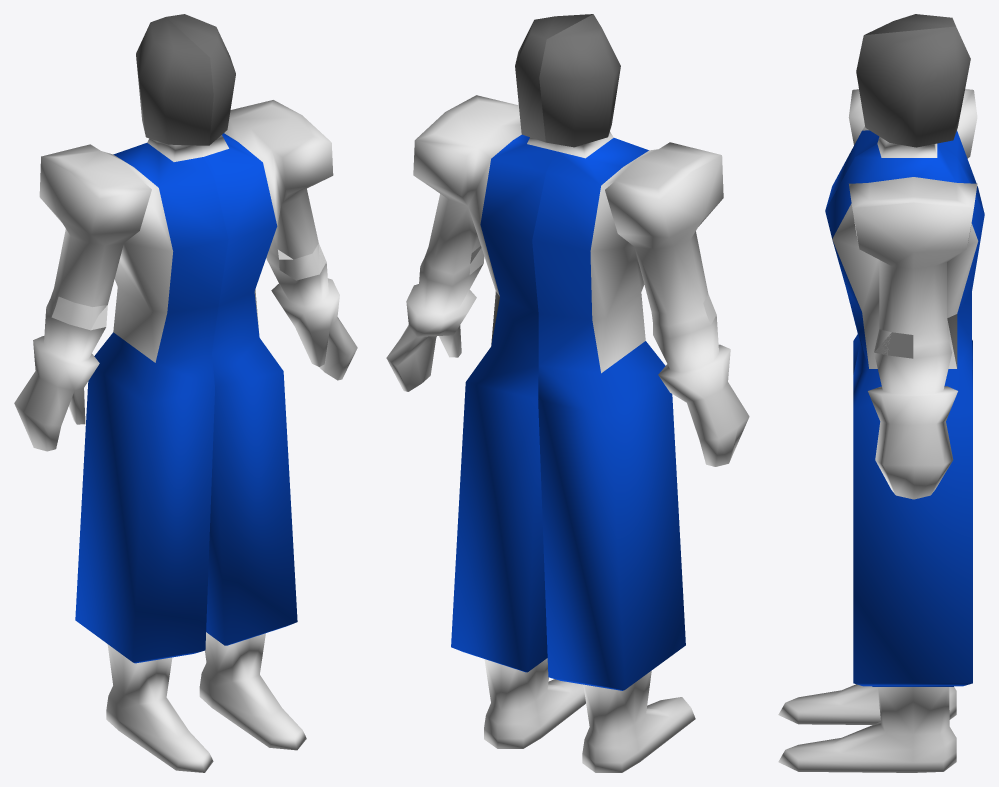
The model's file is Knight_PRoto.fbx.
The picture shows the model from 3 angles, left to right: view 1: azimuth 30°, elevation 25°; view 2: azimuth 150°, elevation 25°; view 3: azimuth 270°, elevation 25°; orthographic projection. The views are drawn at different scales.
Parts seen in each view (by area): view 1: Cube; view 2: Cube; view 3: Cube.
Part boxes in pixels (x1=…): Cube: x1=14, y1=14, x2=357, y2=772; Cube: x1=386, y1=14, x2=749, y2=772; Cube: x1=778, y1=14, x2=984, y2=772.
Size of the model in its own units: 1384 by 2797 by 735.
